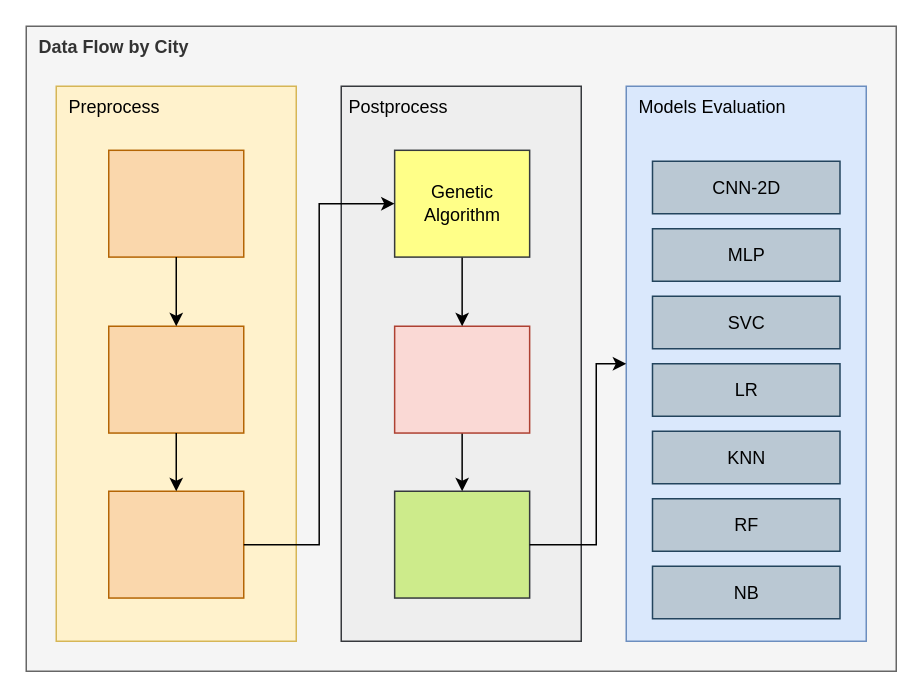
Some shapes in this 923 by 698 pixel diagram are drawn without their labels. Each missing label, with the centre of its shape:
Cleaning: (175,203)
Filtering Areas: (175,544)
Matrices Construction: (461,544)
Resampling: (461,379)
Transformation: (175,379)
